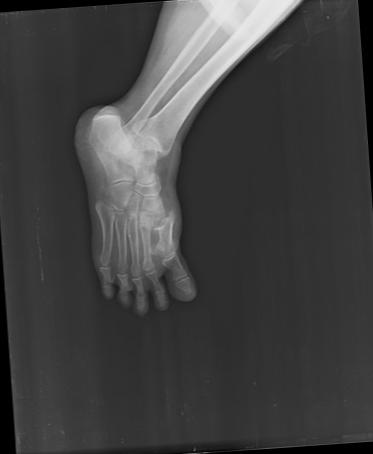fractured: (150, 207, 177, 238)
